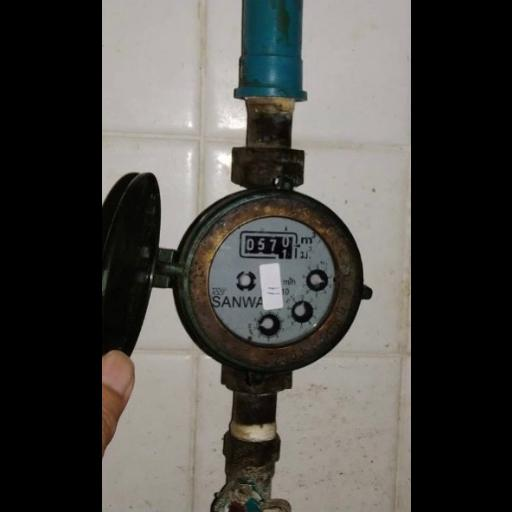0: (278, 237, 292, 260), (245, 236, 256, 254)
5: (255, 236, 268, 254)
7: (267, 236, 279, 254)
border_water_meter_number: (237, 230, 298, 261)
